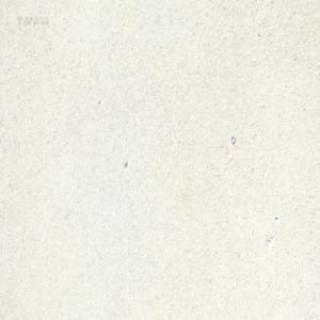Washertrack_idkeyframe: (228, 133, 234, 144)
